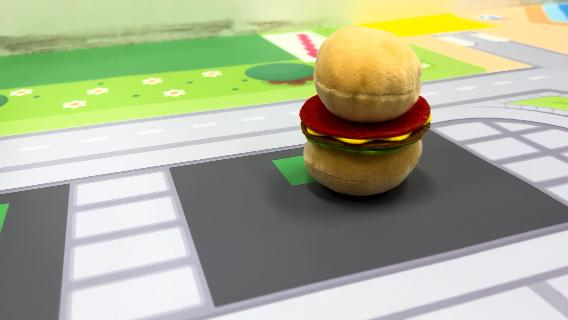burger: (297, 22, 435, 198)
